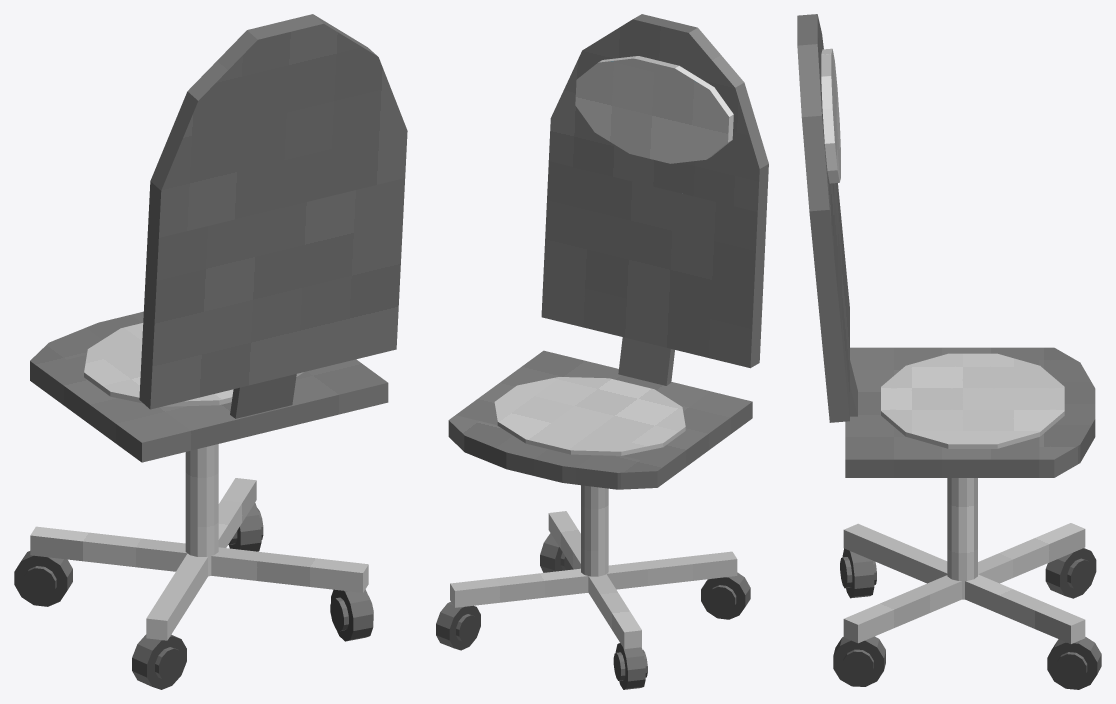
Rendered from Chair.gltf.
The picture shows the model from 3 angles, left to right: view 1: azimuth 30°, elevation 25°; view 2: azimuth 150°, elevation 25°; view 3: azimuth 270°, elevation 25°; orthographic projection. The views are drawn at different scales.
Parts seen in each view (by area): view 1: Chair; view 2: Chair; view 3: Chair.
Part boxes in pixels (left/top/right/bottom): Chair: left=14, top=14, right=407, bottom=689; Chair: left=436, top=14, right=768, bottom=689; Chair: left=797, top=14, right=1101, bottom=689.
Bounding box in the file's own units: 0.326 × 0.8251 × 0.3729.
4 materials, 4 textured.
